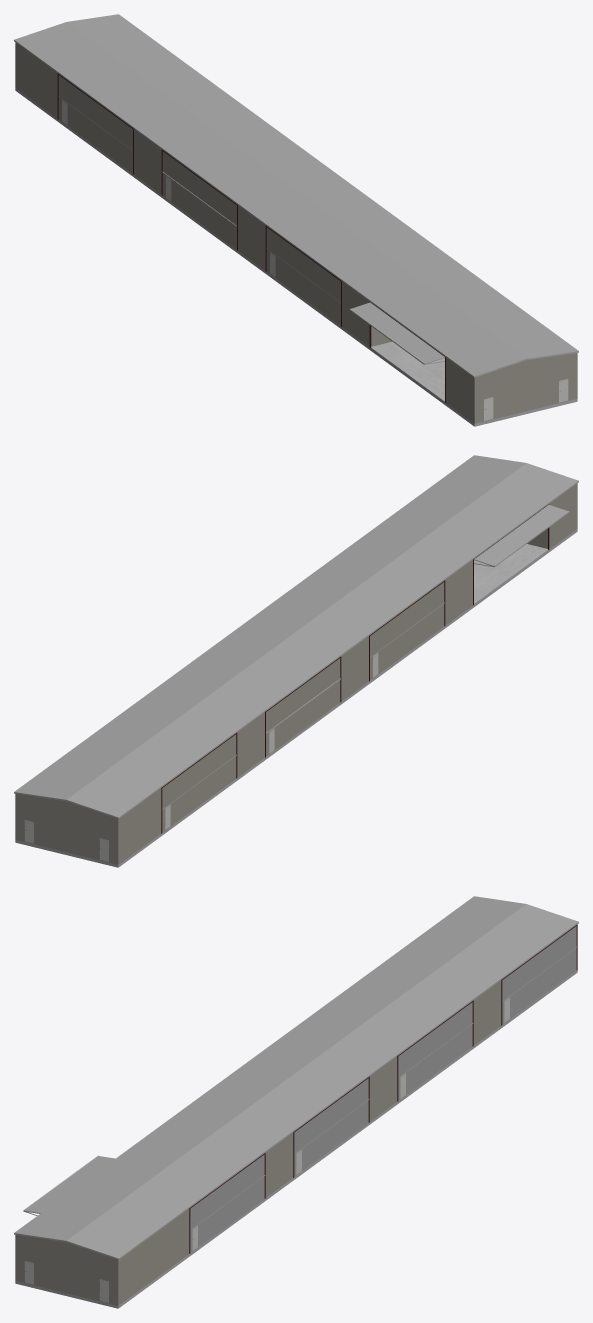
Rendered from gen_open_hangar03-85x11x5-cbj_LOD02.gltf.
The picture shows the model from 3 angles, top to bottom: view 1: azimuth 30°, elevation 25°; view 2: azimuth 150°, elevation 25°; view 3: azimuth 330°, elevation 25°; orthographic projection.
Parts seen in each view (by area): view 1: Cube.015; view 2: Cube.015; view 3: Cube.015.
Boxes of the visible parts, left/top/right/bottom form: Cube.015: left=14, top=14, right=578, bottom=426; Cube.015: left=14, top=455, right=578, bottom=867; Cube.015: left=14, top=896, right=578, bottom=1308.
Size of the model in its own units: 13.37 by 5.7 by 85.2.
